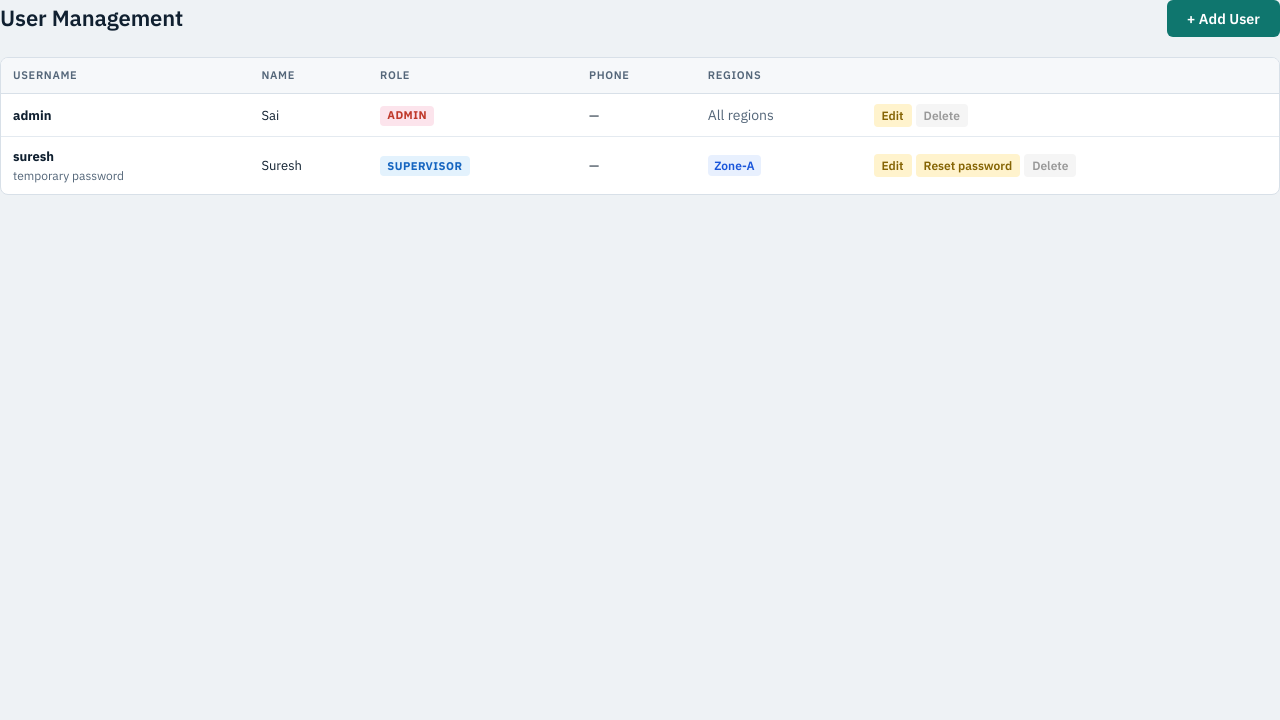
Test: Generate fills a strong password and shows it; Show/Hide toggles
Click the button "+ Add User": {"x": 1223, "y": 18} [1167,0,1279,37]
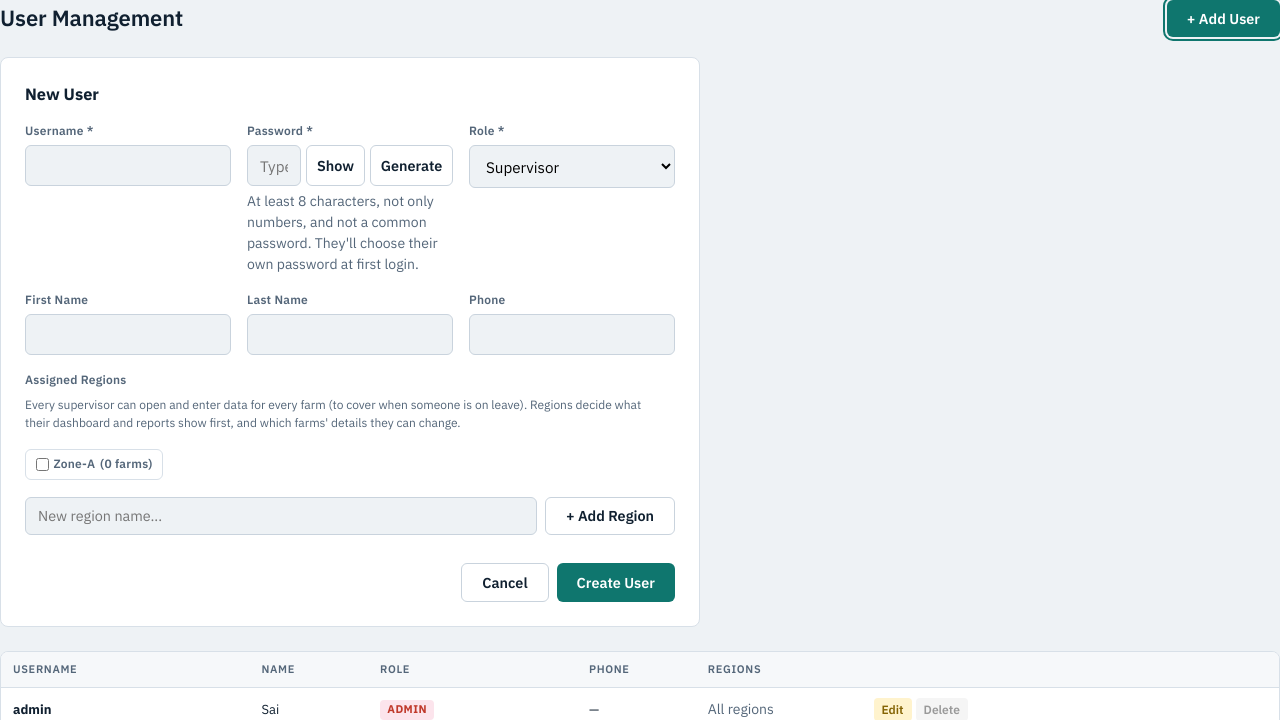
Click the button "Generate": {"x": 412, "y": 166} [370,145,453,186]
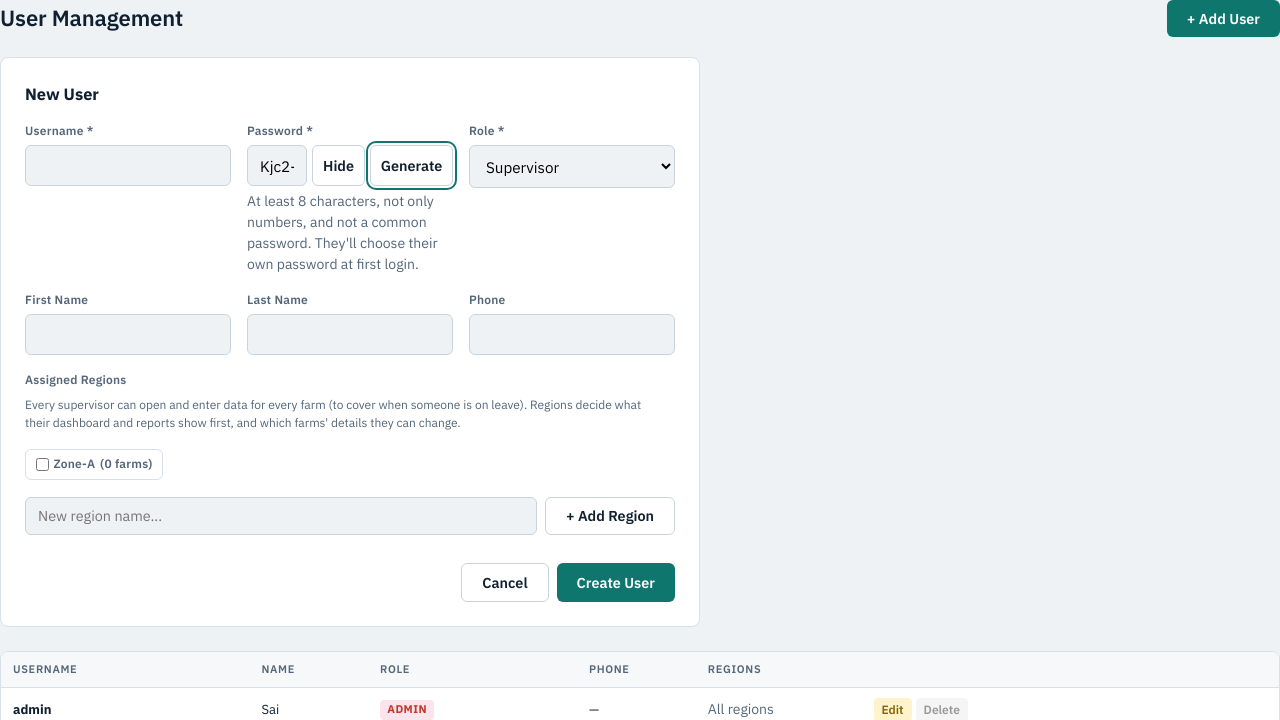
Check: the field below "Password *" shows its text, box [247,145,307,186]
Click the button with aria-label "Hide password": {"x": 338, "y": 166} [312,145,365,186]
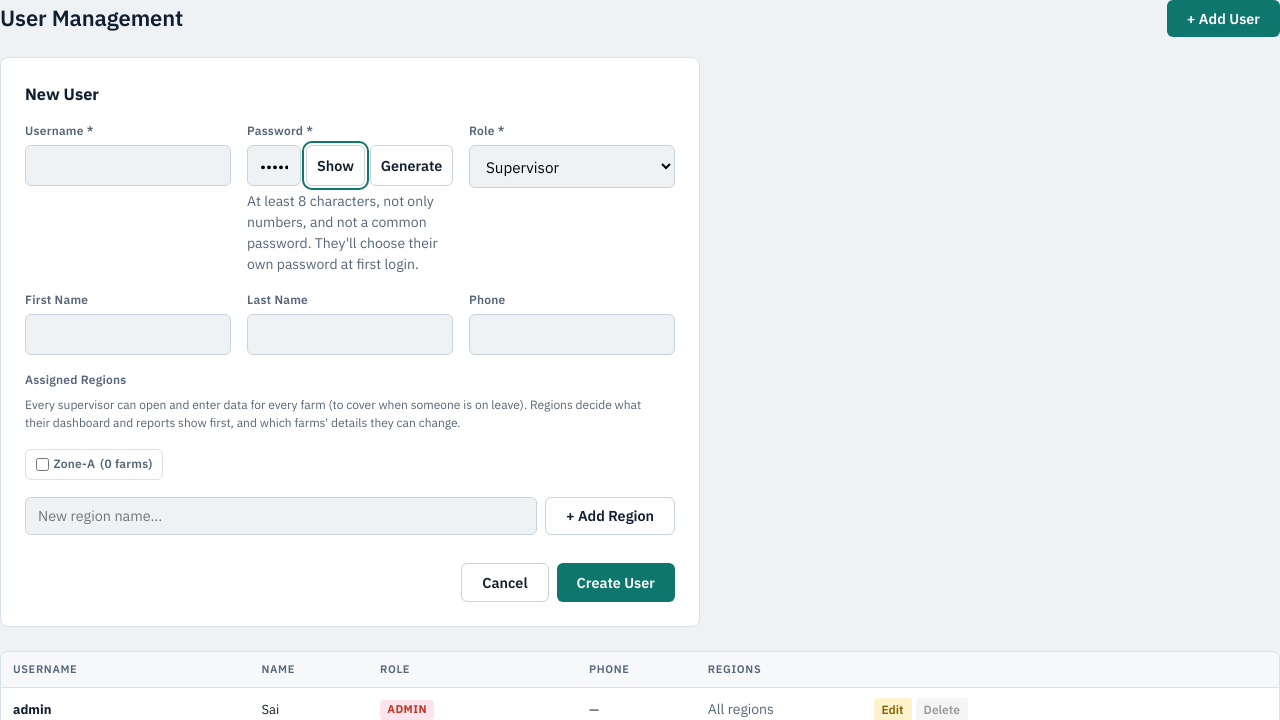
Check: the password field hides its text, box [247,145,301,186]
